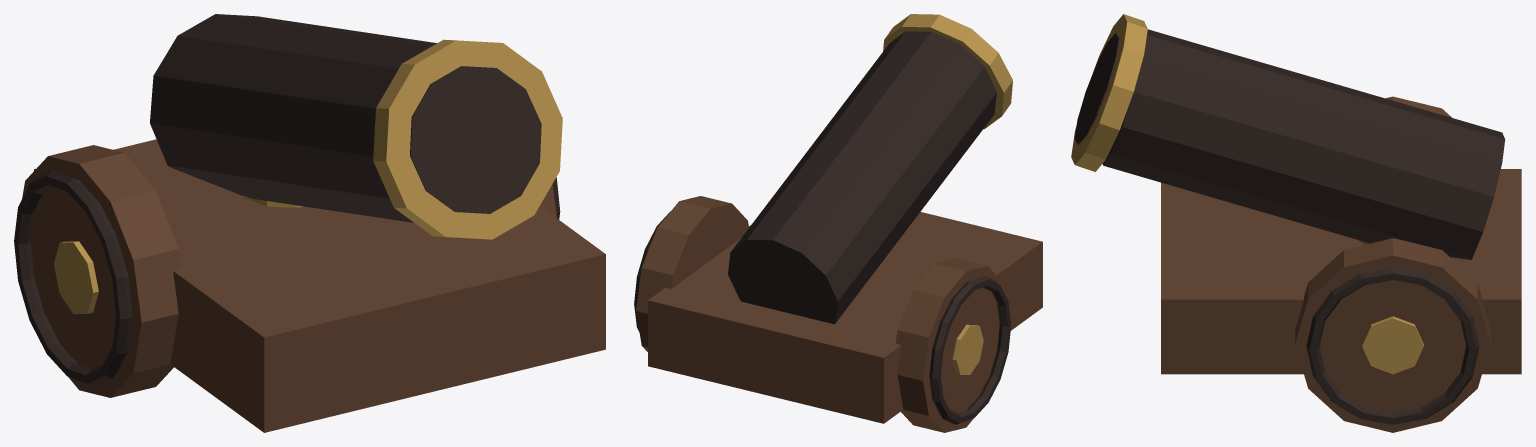
Rendered from PirateCove_Cannon_Standard.glb.
3 renders of one model, left to right at view 1: azimuth 30°, elevation 25°; view 2: azimuth 150°, elevation 25°; view 3: azimuth 270°, elevation 25°, orthographic. The views are drawn at different scales.
Parts seen in each view (by area): view 1: PirateCove_Cannon_Standard; view 2: PirateCove_Cannon_Standard; view 3: PirateCove_Cannon_Standard.
Boxes of the visible parts, box(x1,y1,x2,y2) form: PirateCove_Cannon_Standard: box(14, 14, 605, 432); PirateCove_Cannon_Standard: box(634, 14, 1042, 432); PirateCove_Cannon_Standard: box(1071, 14, 1521, 432).
Bounding box in the file's own units: 1.55 × 1.42 × 1.75.
